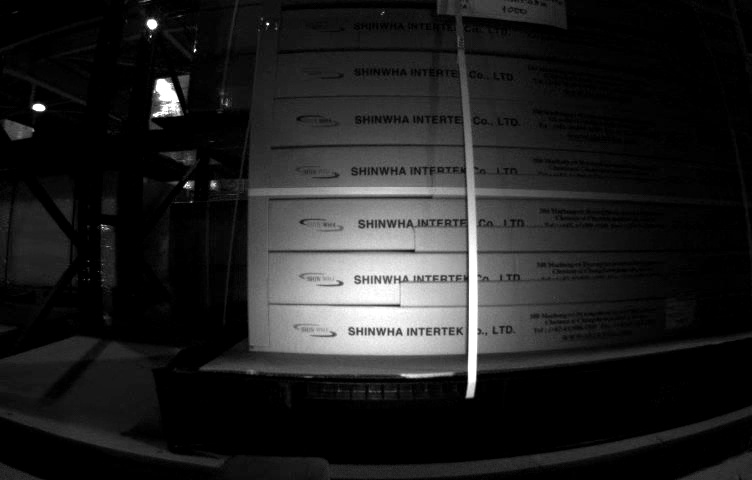True Barcode: (666, 298, 695, 327)
